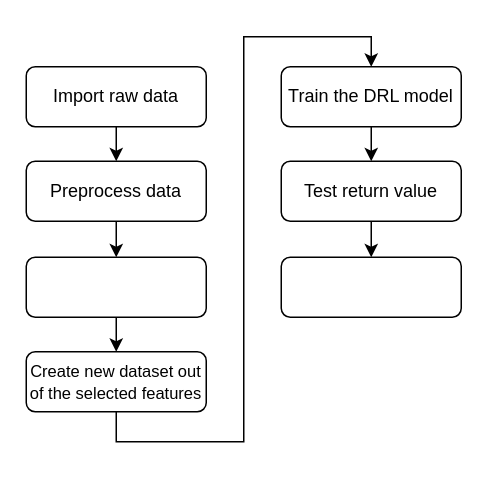
This 488x480 diagram has some shape labels left out. The shapes that lost their labels are listed below. From the top down, each one's box as (x1, y1, x2, y2) in pixels, then its label:
(25, 256, 206, 317): Select best features
(280, 256, 461, 317): Report test results
